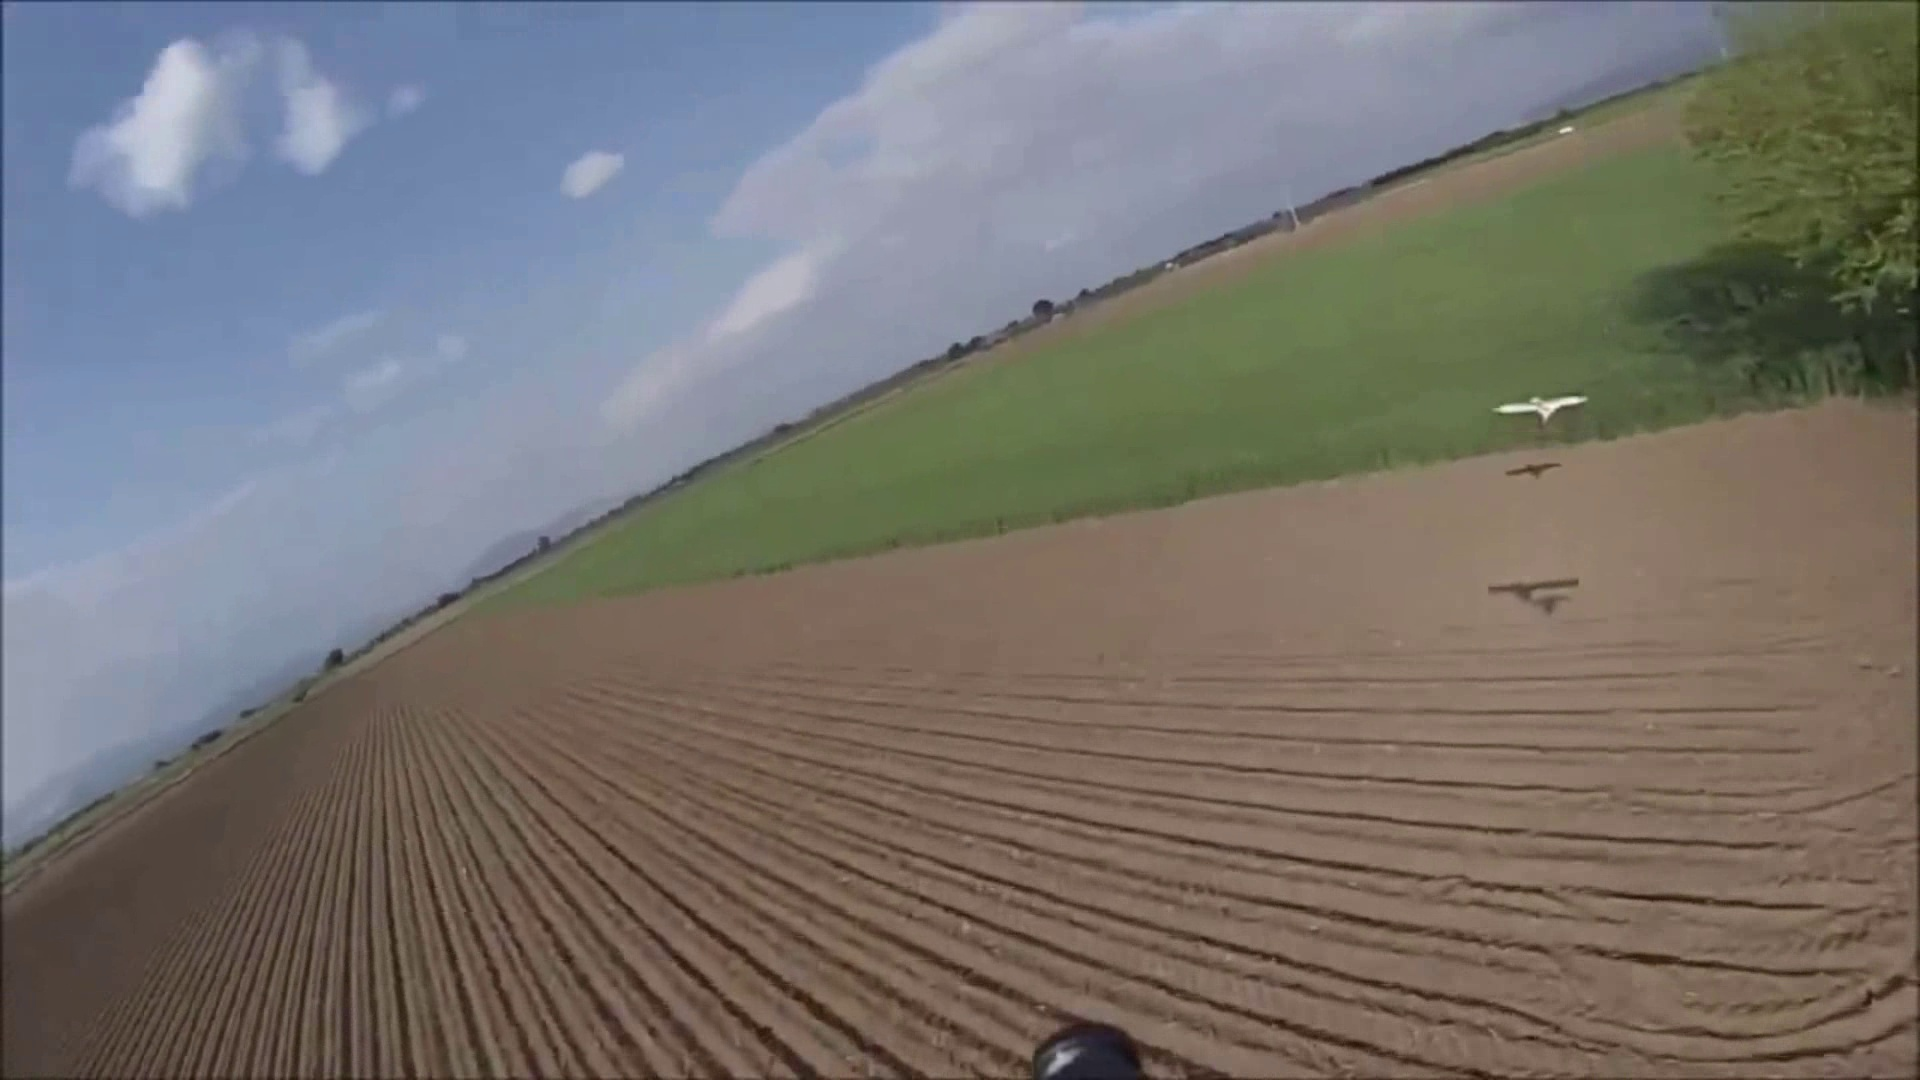airplane: (1491, 392, 1586, 425)
